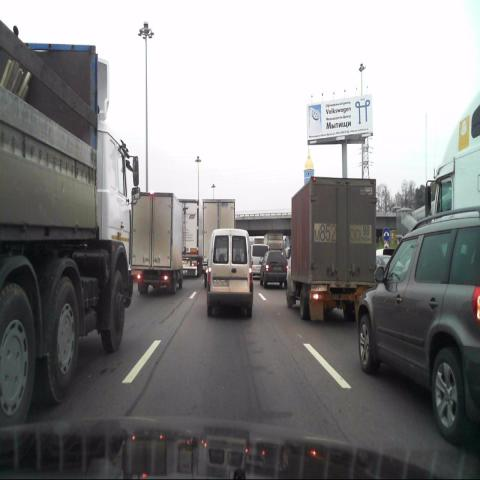4_2_3: (382, 228, 390, 241)
